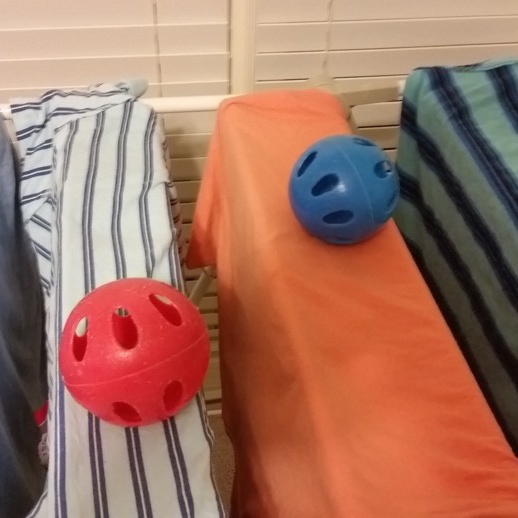blueball: (284, 131, 405, 250)
redball: (54, 274, 216, 432)
